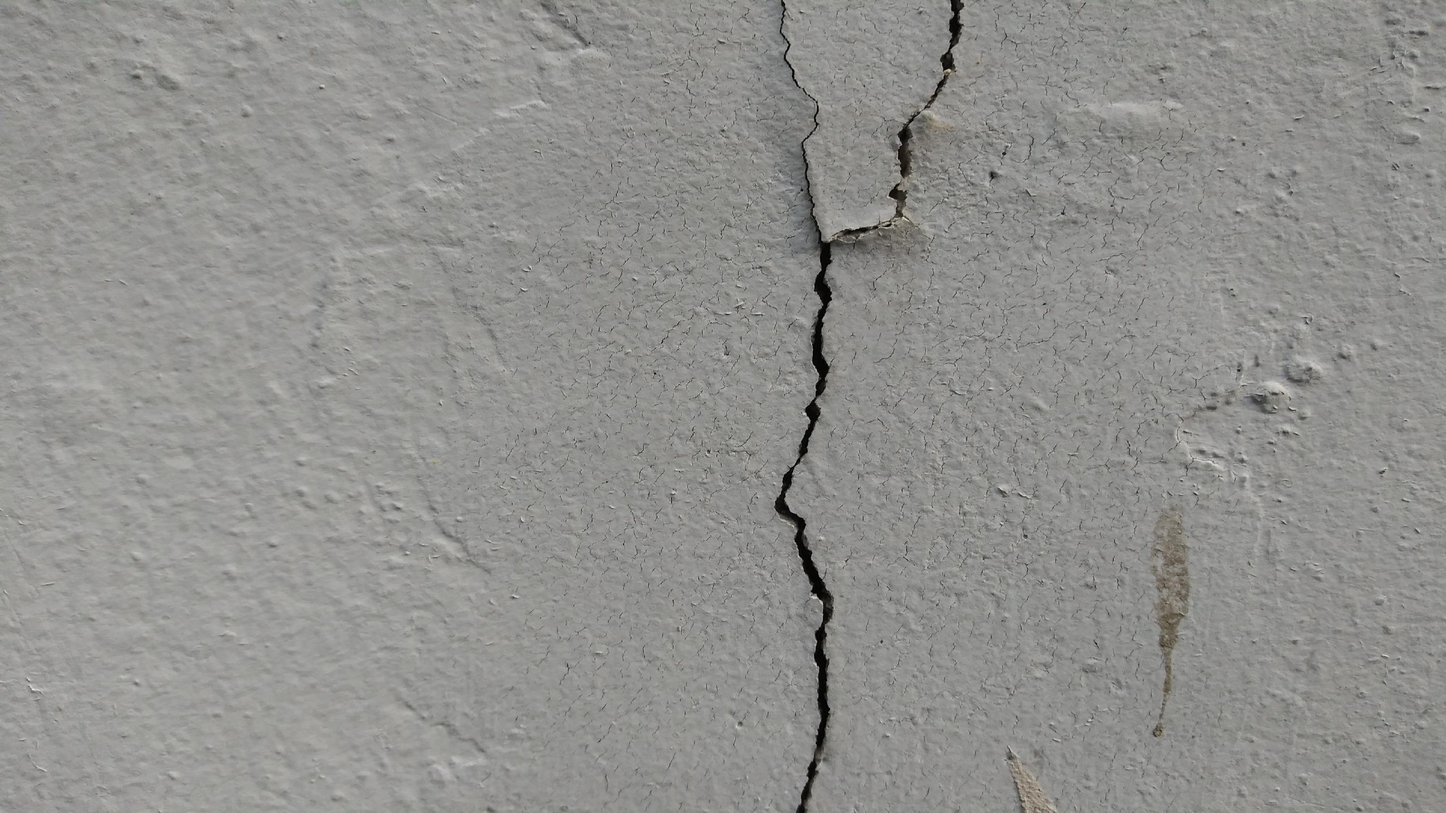crack: (764, 0, 973, 805)
